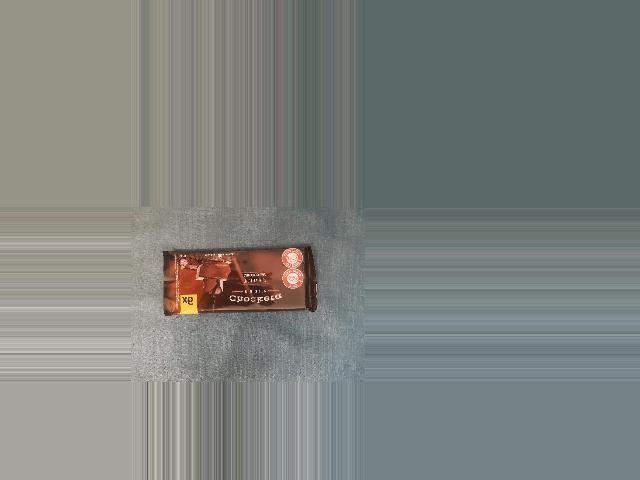chocolate: (161, 236, 315, 327)
